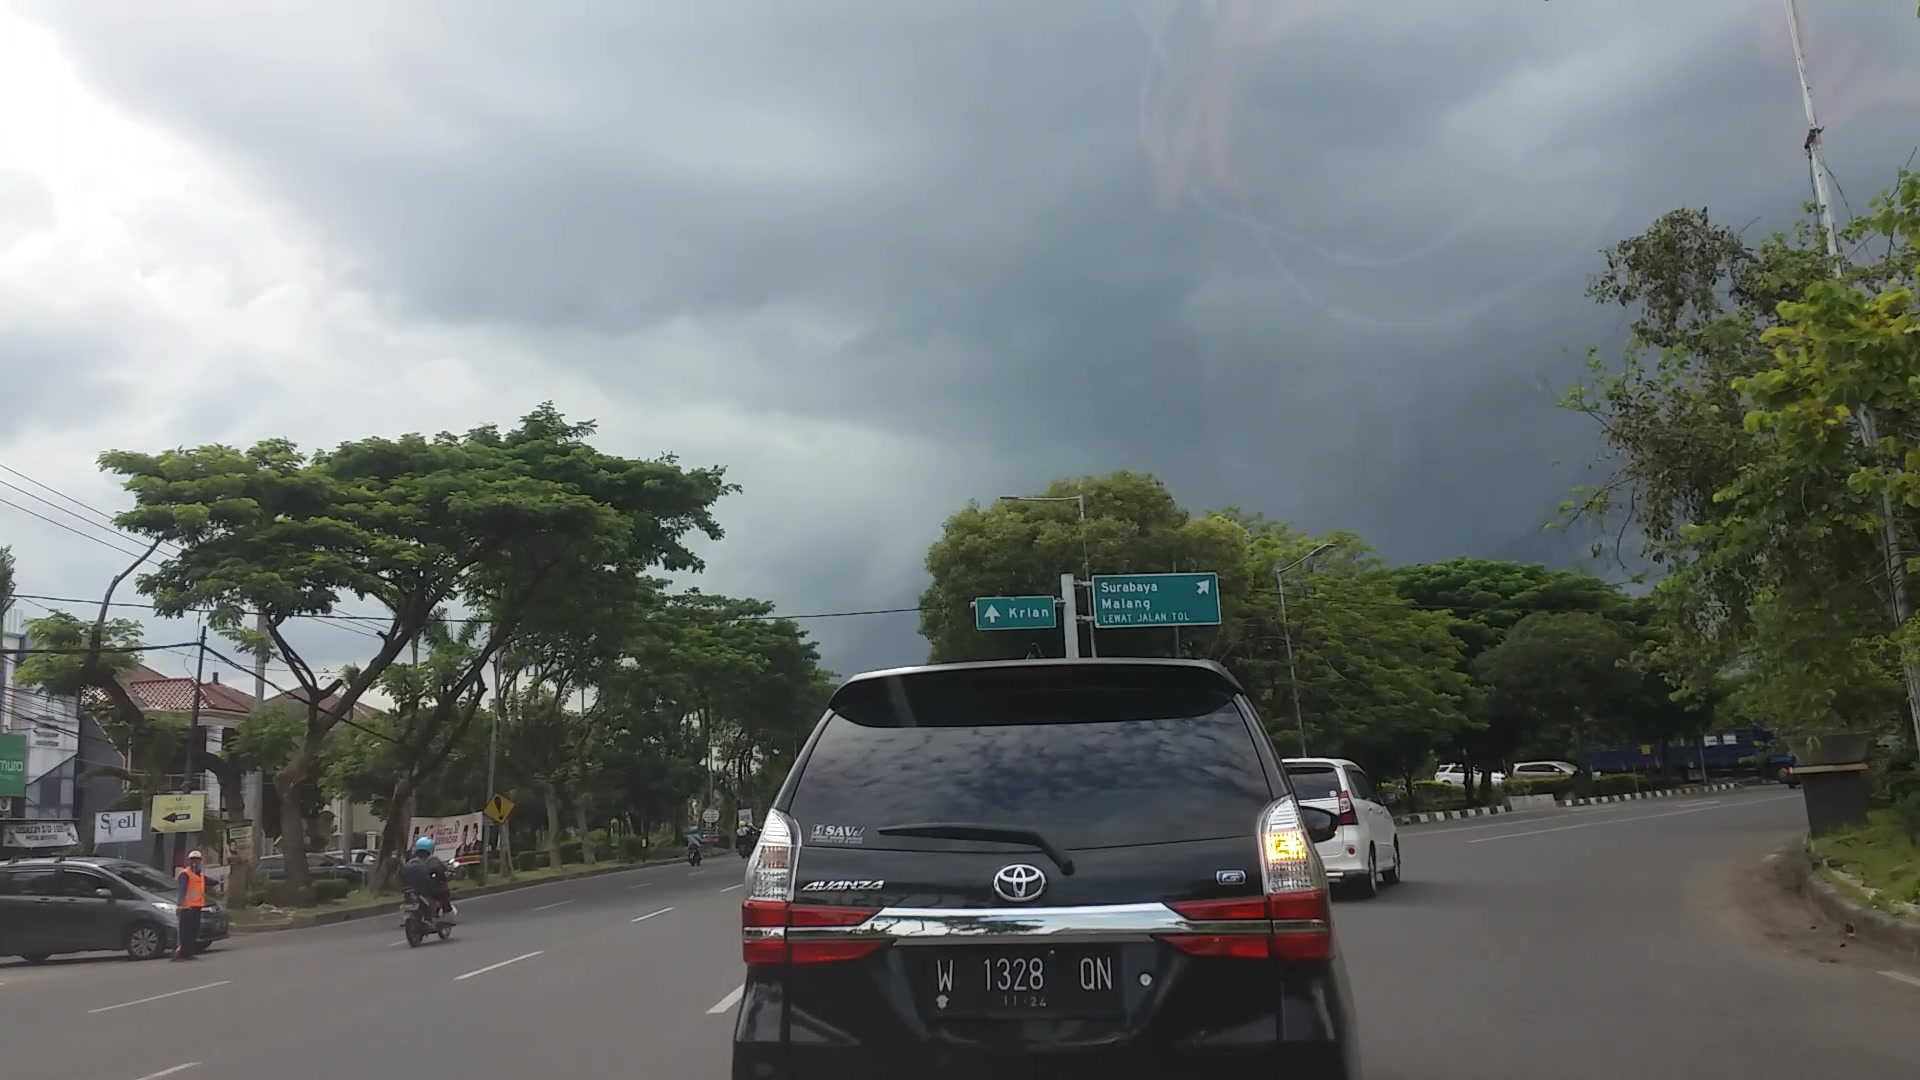plate_positive: (931, 945, 1118, 1011)
